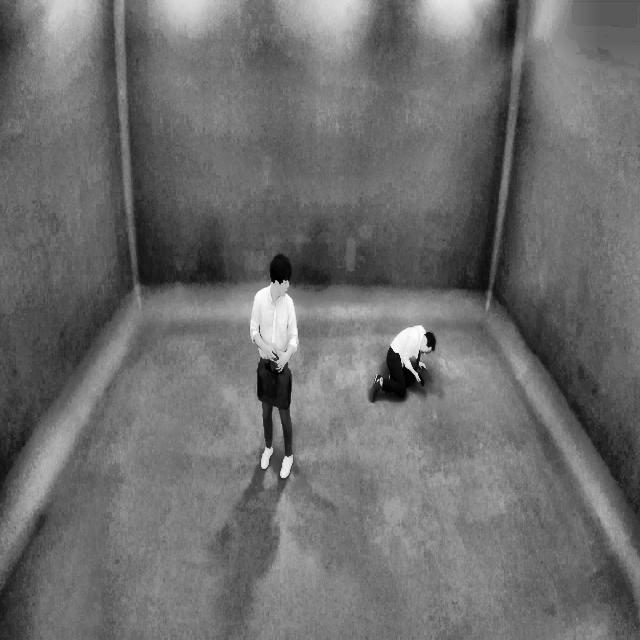assult: (249, 229, 452, 476)
